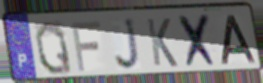A: (220, 14, 259, 65)
F: (69, 19, 103, 73)
J: (114, 16, 143, 72)
K: (144, 17, 180, 69)
Q: (33, 19, 75, 77)
X: (176, 12, 220, 70)
